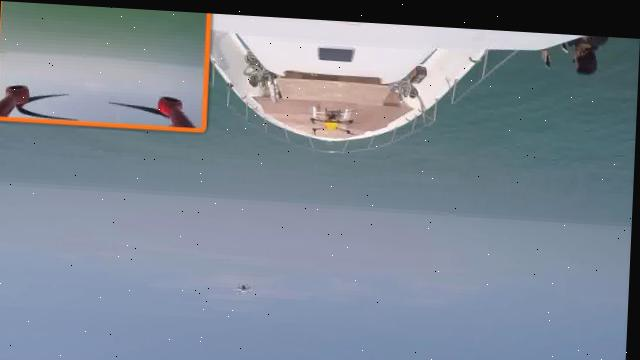drone: (301, 102, 365, 134), (229, 275, 259, 299)
